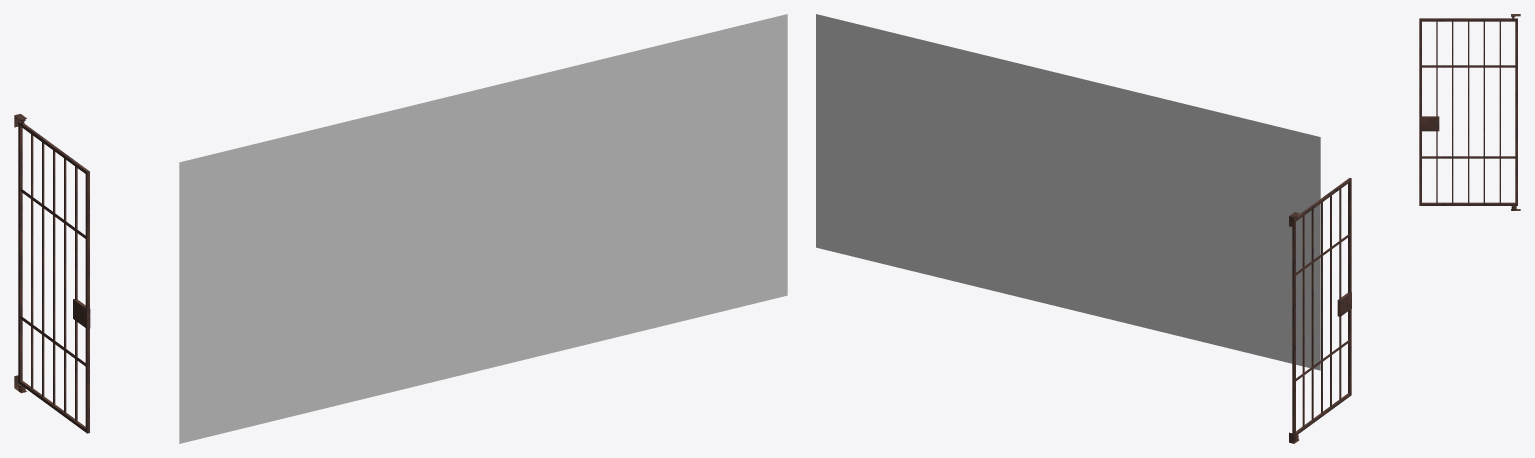
File: arq_puertas externas.FBX
3 renders of one model, left to right at view 1: azimuth 30°, elevation 25°; view 2: azimuth 150°, elevation 25°; view 3: azimuth 270°, elevation 25°, orthographic. The views are drawn at different scales.
Parts seen in each view (by area): view 1: arq_puertagarage, arq_puertaherreria; view 2: arq_puertagarage, arq_puertaherreria; view 3: arq_puertaherreria.
Boxes of the visible parts, left/top/right/bottom form: arq_puertagarage: left=179, top=14, right=787, bottom=443; arq_puertaherreria: left=14, top=114, right=90, bottom=433; arq_puertagarage: left=816, top=14, right=1320, bottom=370; arq_puertaherreria: left=1289, top=178, right=1351, bottom=443; arq_puertaherreria: left=1419, top=14, right=1520, bottom=210.
Size of the model in its own units: 5.4 by 2.15 by 1.36.
Materials: 2 (1 with a texture image).
